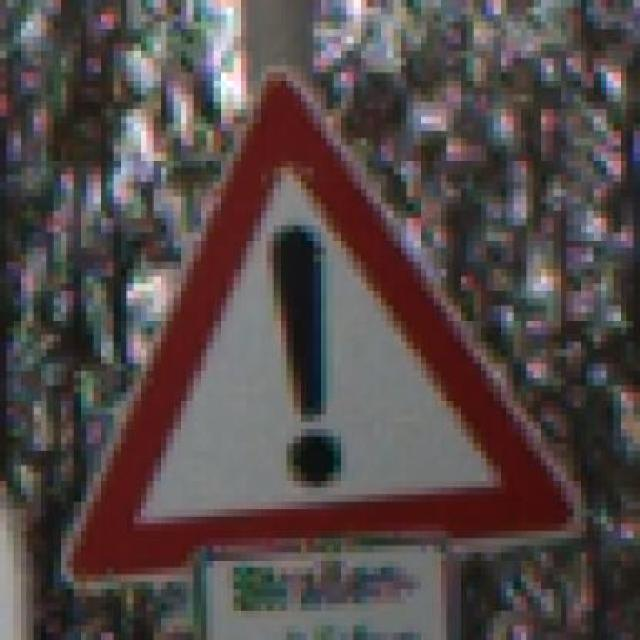Attention Please-: (46, 66, 614, 612)
